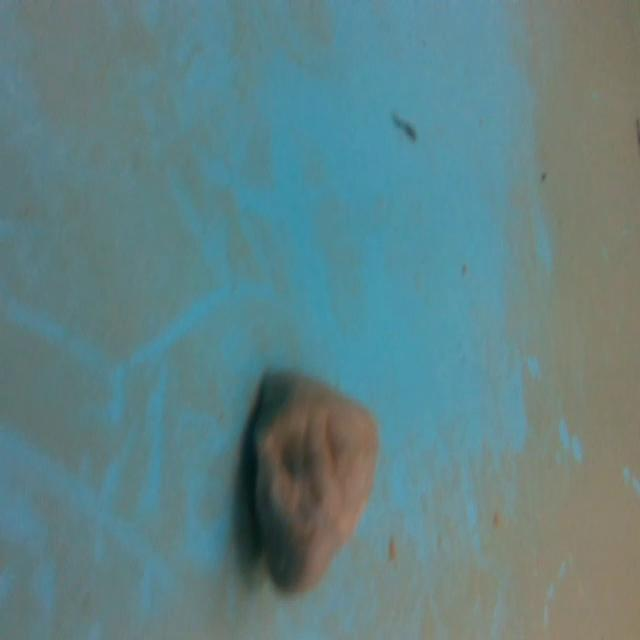rock: (240, 364, 384, 602)
